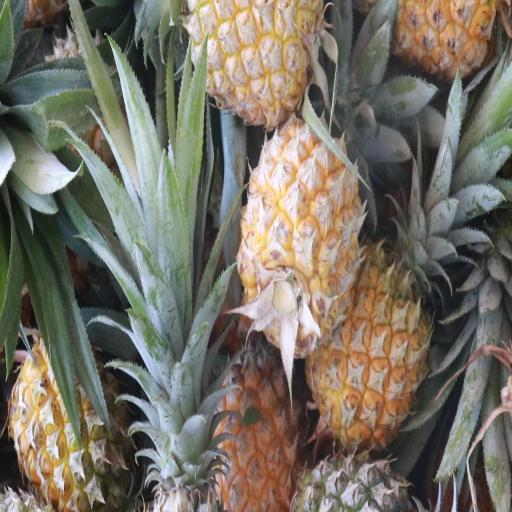------------------------------: (12, 333, 133, 512)
Pineapple - v8 v1: (242, 120, 360, 350), (308, 249, 428, 449), (184, 0, 318, 128), (208, 342, 302, 512)
